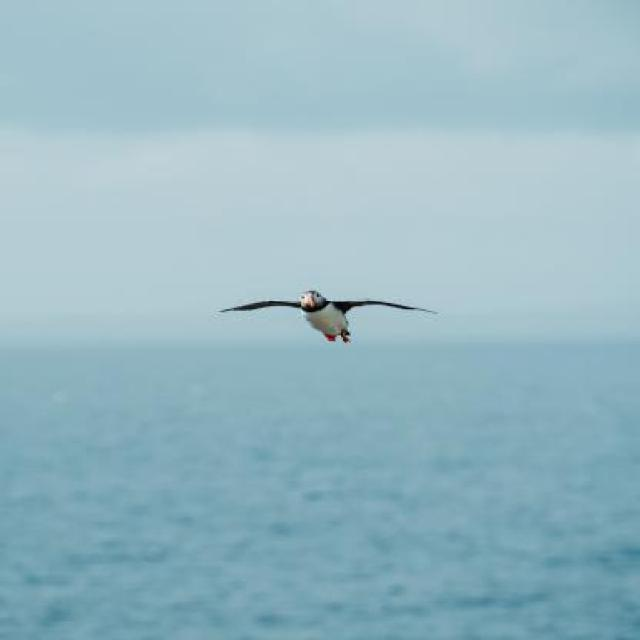bird: (220, 291, 438, 343)
